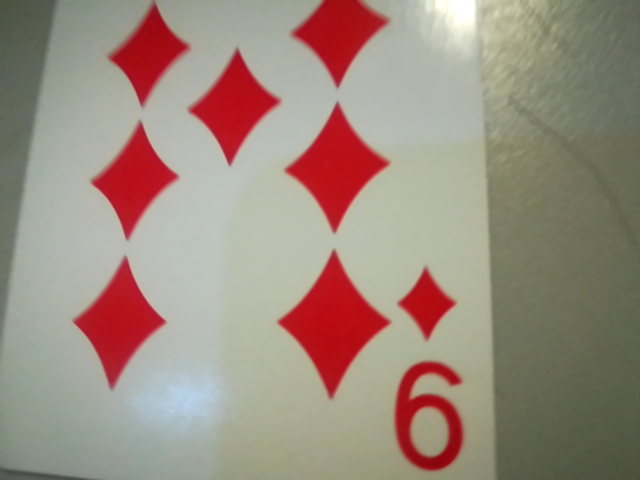fk 9: (383, 250, 489, 480)
